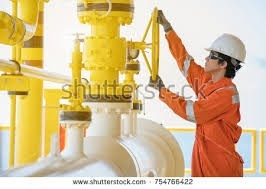helmet: (204, 33, 249, 64)
person with partial safety: (194, 32, 250, 177)
